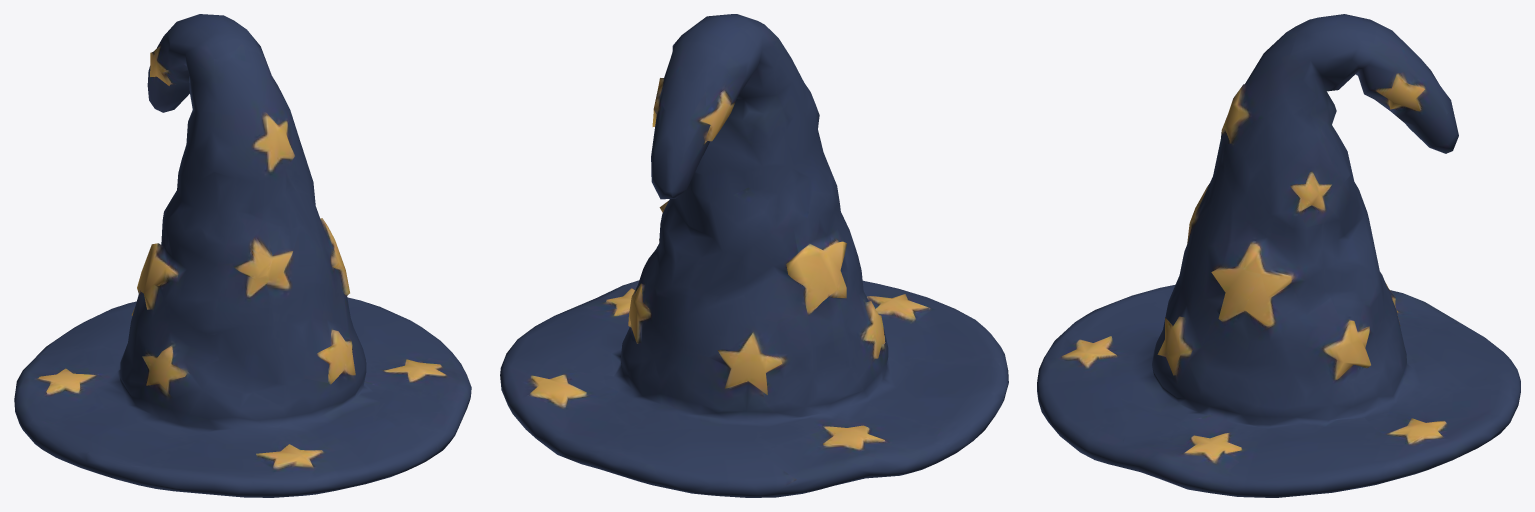
Rendered from hat-wizard.glb.
3 renders of one model, left to right at view 1: azimuth 30°, elevation 25°; view 2: azimuth 150°, elevation 25°; view 3: azimuth 270°, elevation 25°, orthographic. The views are drawn at different scales.
Parts seen in each view (by area): view 1: tripo_node_e7935b8a-a7f5-430c-9784-b16637c0352f; view 2: tripo_node_e7935b8a-a7f5-430c-9784-b16637c0352f; view 3: tripo_node_e7935b8a-a7f5-430c-9784-b16637c0352f.
Part boxes in pixels (<box>): tripo_node_e7935b8a-a7f5-430c-9784-b16637c0352f: <box>14,14,471,497</box>; tripo_node_e7935b8a-a7f5-430c-9784-b16637c0352f: <box>500,14,1008,497</box>; tripo_node_e7935b8a-a7f5-430c-9784-b16637c0352f: <box>1037,14,1520,497</box>.
Bounding box in the file's own units: 1 × 0.8733 × 0.998.
Materials: 1 (1 with a texture image).
